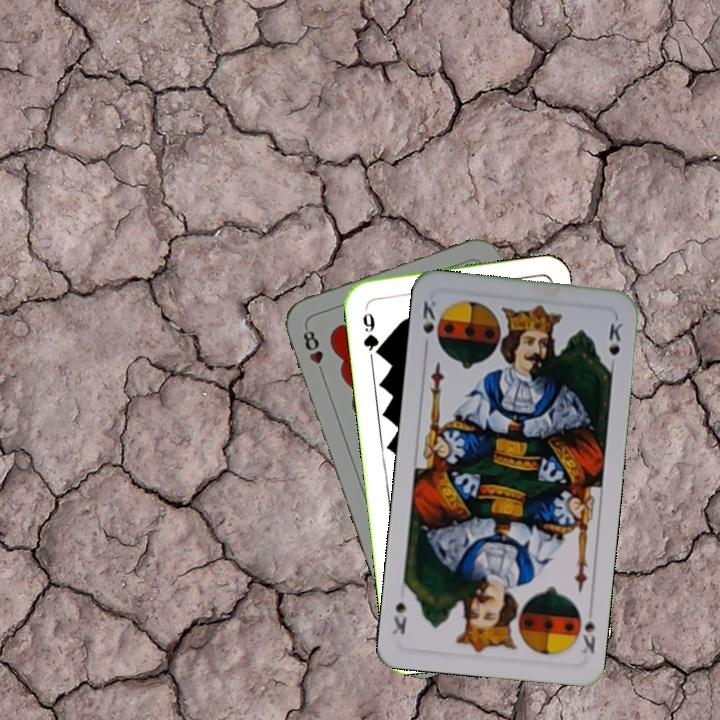G9: (358, 301, 384, 359)
H8: (299, 323, 328, 379)
SK: (571, 601, 598, 656), (418, 295, 439, 336)
